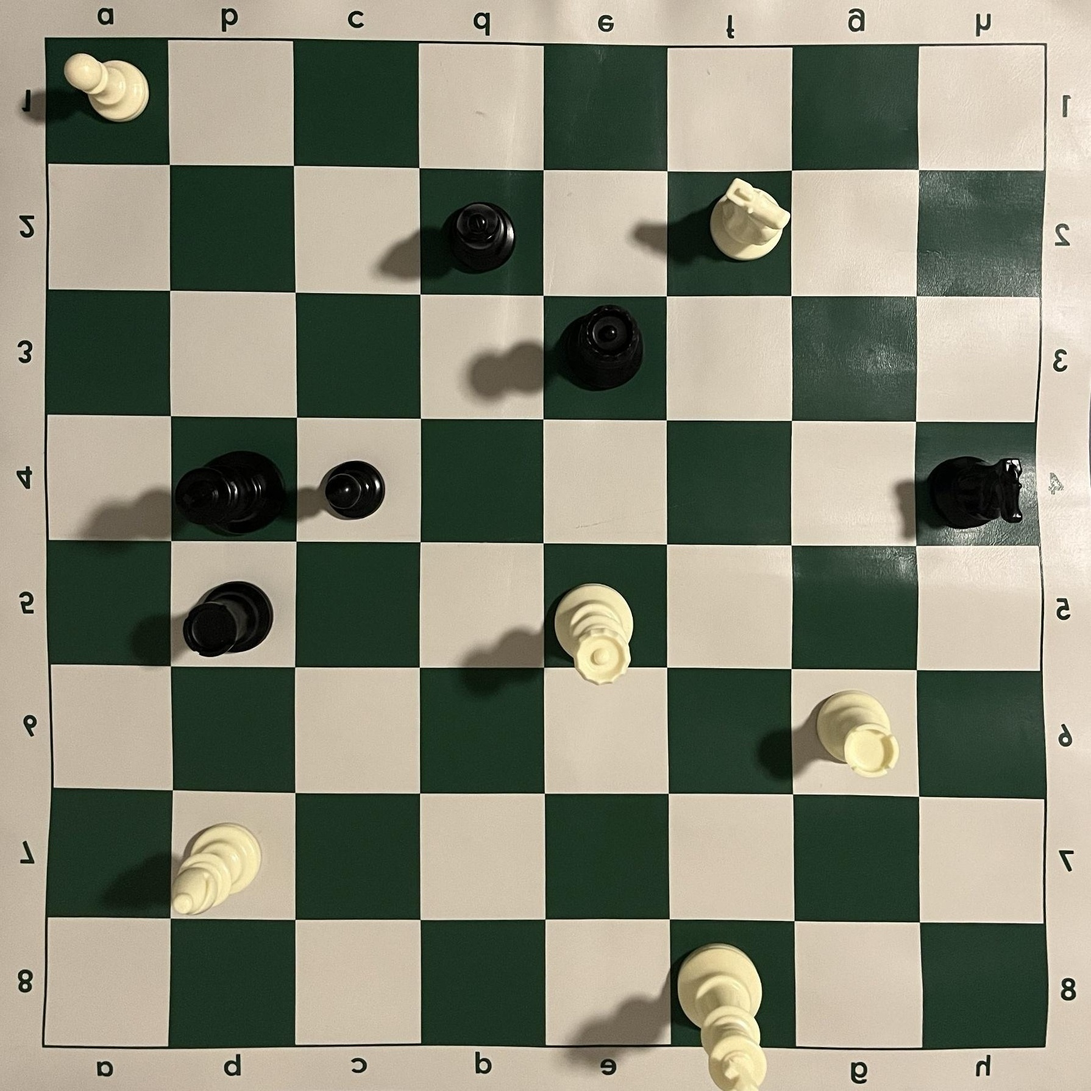black_bishop: (445, 201, 517, 275)
black_king: (173, 450, 286, 537)
black_knight: (926, 455, 1024, 530)
black_pawn: (321, 460, 386, 521)
black_queen: (561, 304, 645, 393)
black_rook: (182, 579, 275, 659)
white_bishop: (170, 822, 263, 917)
white_king: (677, 942, 767, 1091)
white_knight: (708, 178, 791, 263)
white_pawn: (63, 52, 150, 123)
white_queen: (553, 583, 636, 686)
white_rook: (815, 689, 901, 779)
